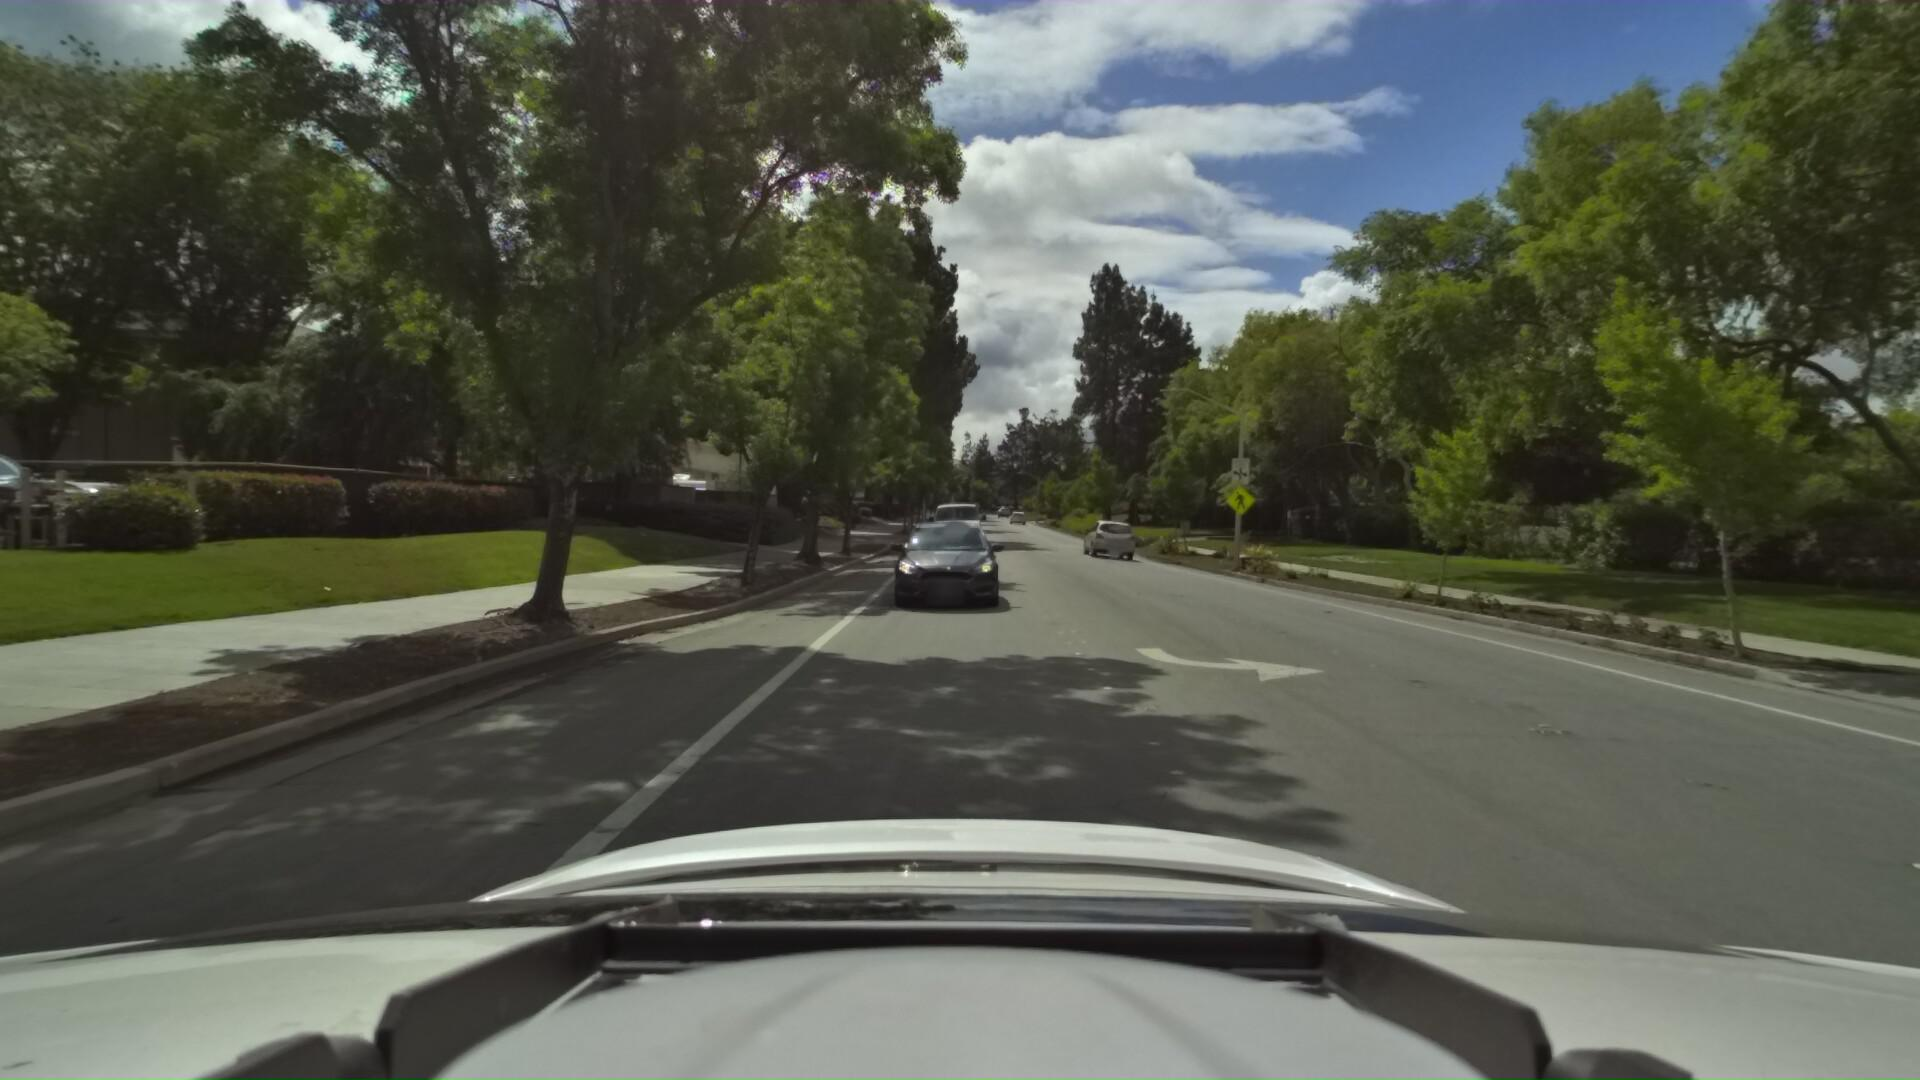car: (882, 510, 1001, 613), (931, 491, 989, 554), (1081, 516, 1137, 559)
